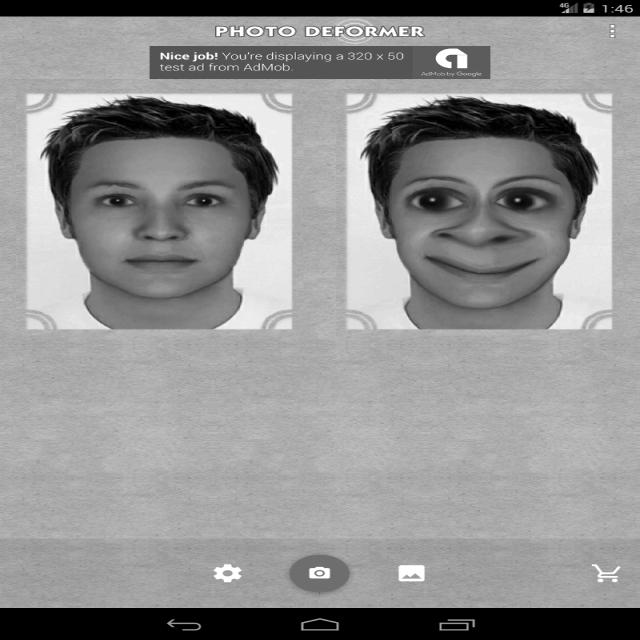ImageButton: (282, 550, 356, 598), (198, 552, 257, 588), (392, 548, 439, 590), (588, 18, 634, 52), (578, 562, 630, 586)
ImageView: (368, 98, 607, 348), (58, 96, 281, 328)
TextView: (146, 40, 410, 78), (201, 15, 436, 41)
